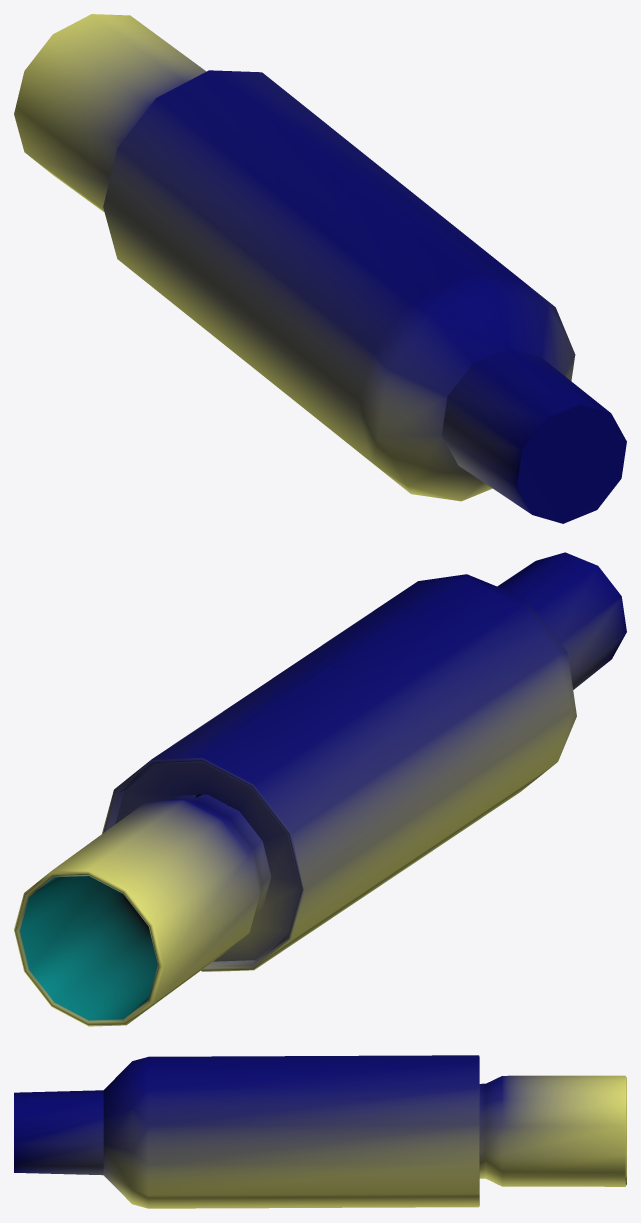
The model's file is Car_Nissan_SkylineGTRVspecR34_1999_Exhausts_SetFA.fbx.
The picture shows the model from 3 angles, top to bottom: view 1: azimuth 30°, elevation 25°; view 2: azimuth 150°, elevation 25°; view 3: azimuth 270°, elevation 25°; orthographic projection. The views are drawn at different scales.
Visible parts, largest first — view 1: Exhausts 6; view 2: Exhausts 6; view 3: Exhausts 6.
Boxes of the visible parts, x1,y1,x2,y2 form: Exhausts 6: (14,14,626,523); Exhausts 6: (14,552,626,1026); Exhausts 6: (14,1055,626,1208).
Size of the model in its own units: 0.1493 by 0.1472 by 0.5724.
